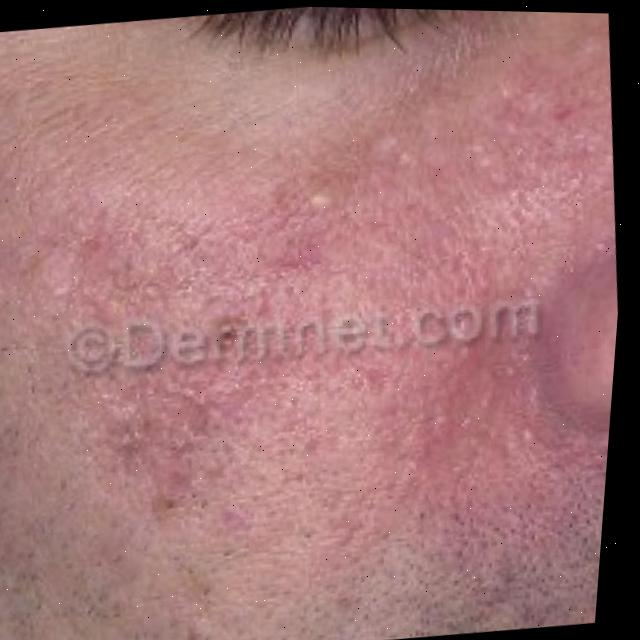Acne: (52, 175, 519, 523)
